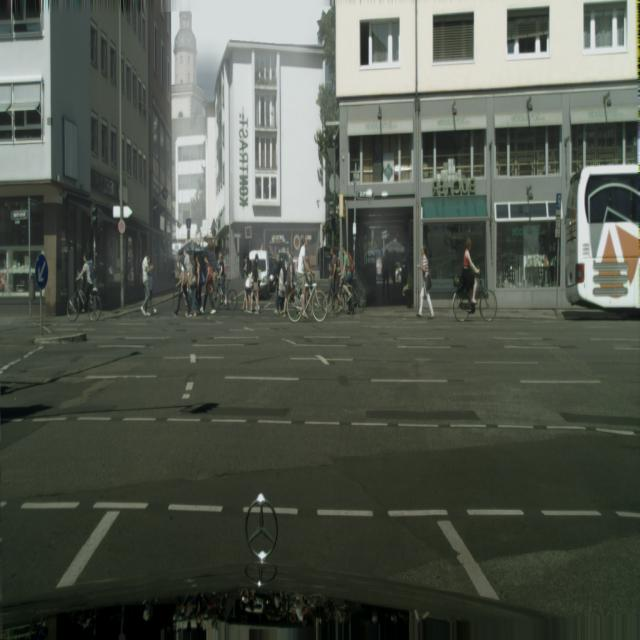car: (452, 236, 497, 322), (286, 243, 327, 320), (67, 256, 102, 322), (331, 246, 361, 311)
motorcycle: (565, 164, 640, 311)
person: (416, 245, 434, 319), (141, 253, 154, 316), (201, 256, 215, 314), (276, 250, 286, 316), (243, 256, 253, 312), (251, 256, 260, 312)
